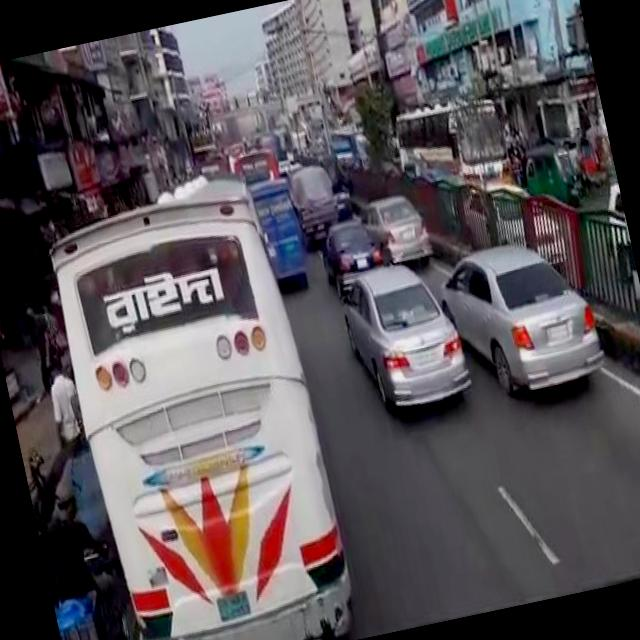bus: (38, 181, 363, 640), (386, 89, 512, 204), (228, 143, 279, 186)
car: (428, 228, 606, 408), (332, 252, 471, 418), (458, 166, 571, 284), (311, 210, 385, 296), (361, 185, 432, 268)
motorcycle: (516, 134, 583, 214), (572, 130, 613, 198)
truck: (248, 172, 310, 284), (284, 160, 341, 240)
